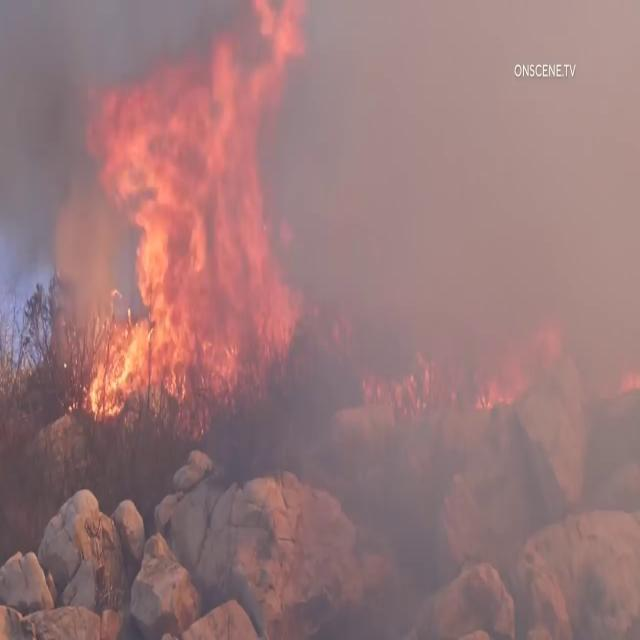Fire: (76, 14, 302, 420)
Smoke: (245, 1, 640, 632)
